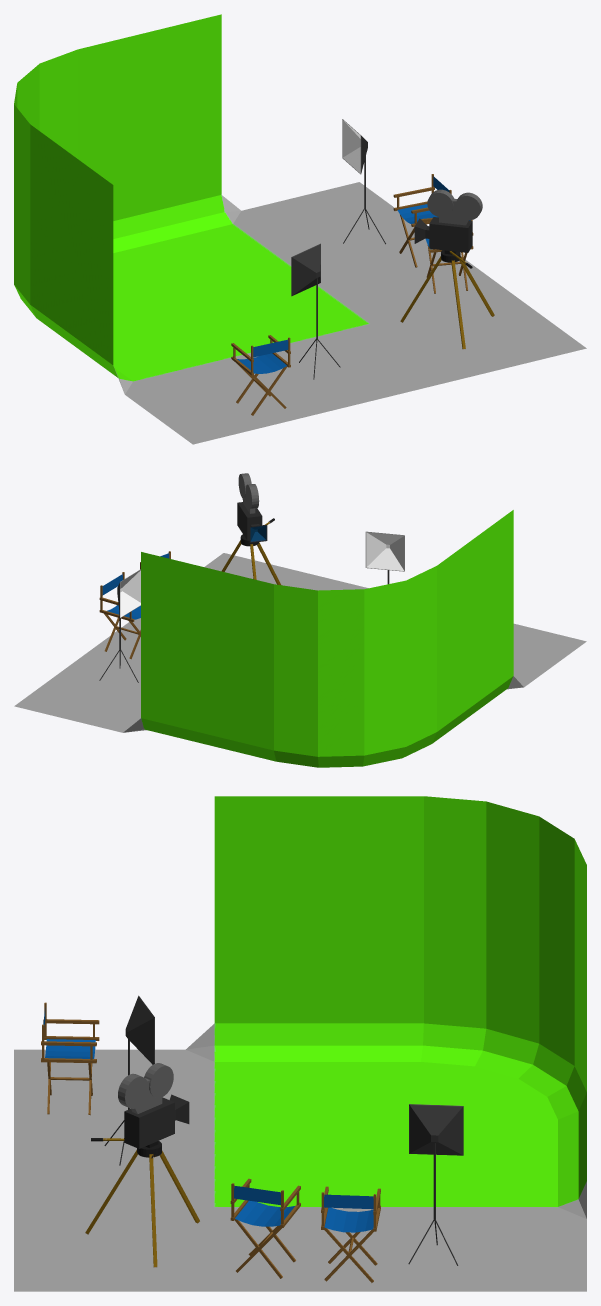
3 views of the same model, one above another, from view 1: azimuth 30°, elevation 25°; view 2: azimuth 150°, elevation 25°; view 3: azimuth 270°, elevation 25° (orthographic). The views are drawn at different scales.
Parts seen in each view (by area): view 1: Floor and wall, camera, chair1, floodlight.001, chair2, floodlight; view 2: Floor and wall, camera, floodlight.001, floodlight, chair2; view 3: Floor and wall, camera, floodlight, chair, chair2, chair1, floodlight.001.
Part boxes in pixels (box(x1,y1,x2,y2)): Floor and wall: box(14, 14, 586, 444); camera: box(400, 189, 494, 349); chair1: box(231, 335, 290, 415); floodlight.001: box(291, 243, 340, 379); chair2: box(393, 174, 451, 267); floodlight: box(342, 119, 385, 244); Floor and wall: box(14, 510, 586, 767); camera: box(221, 473, 281, 585); floodlight.001: box(365, 531, 404, 584); floodlight: box(99, 569, 140, 682); chair2: box(99, 572, 140, 659); Floor and wall: box(14, 796, 586, 1291); camera: box(85, 1063, 199, 1267); floodlight: box(408, 1104, 463, 1265); chair: box(230, 1178, 300, 1278); chair2: box(321, 1186, 380, 1282); chair1: box(41, 1002, 99, 1115); floodlight.001: box(104, 995, 154, 1165).
Size of the model in its own units: 2845 by 1389 by 2845.
Materials: 7 (7 with a texture image).
